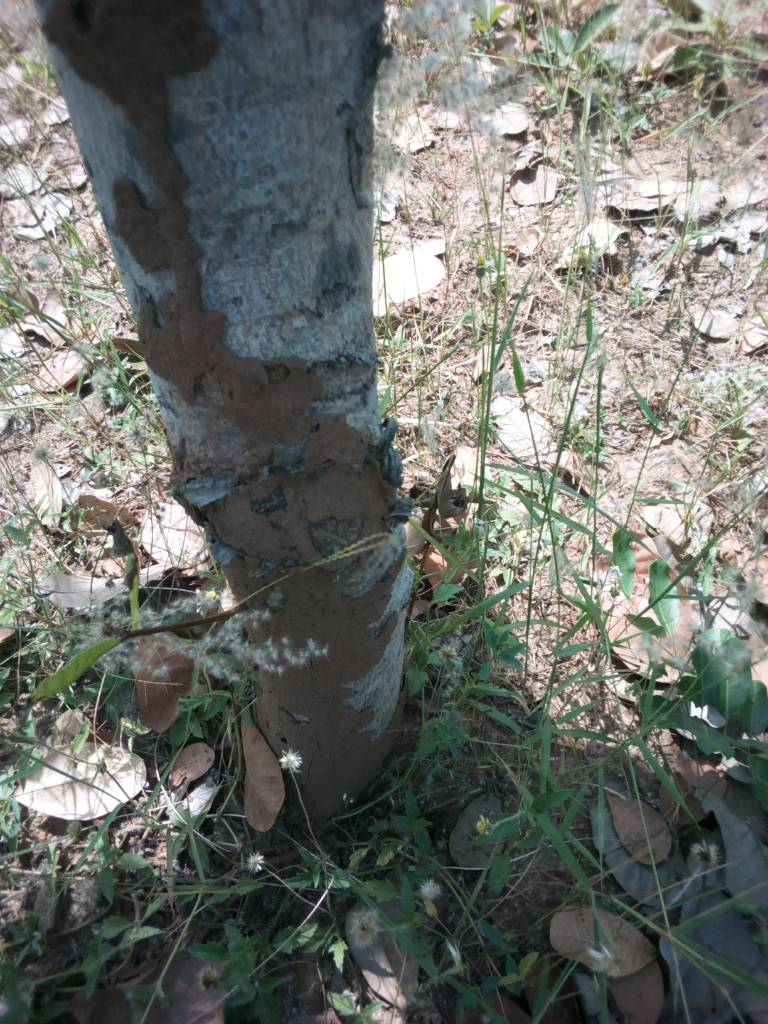Virose: (83, 10, 415, 792)
